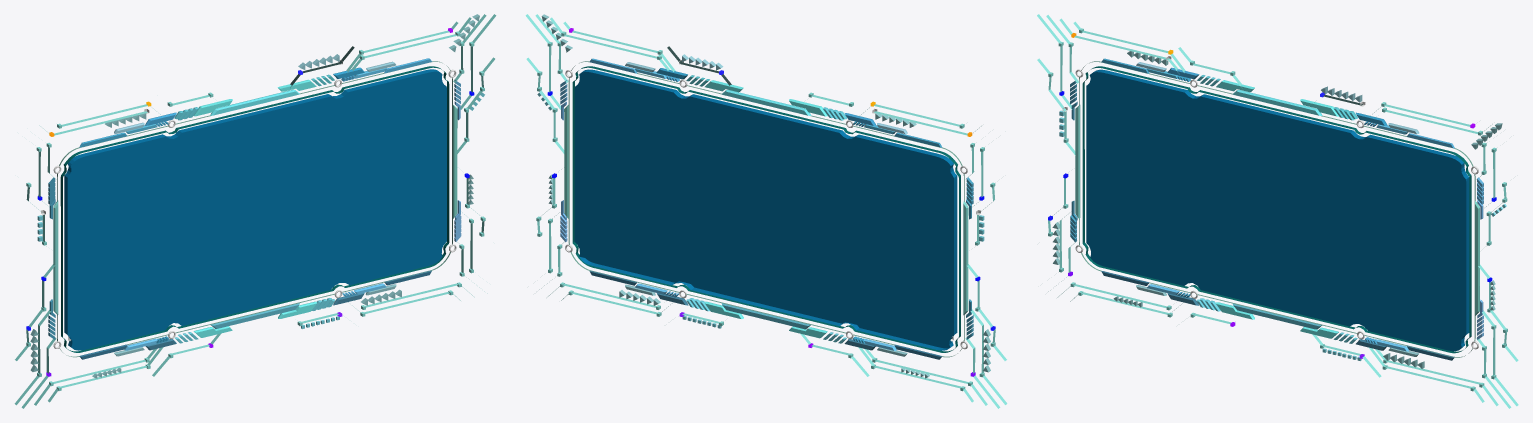
3 renders of one model, left to right at view 1: azimuth 30°, elevation 25°; view 2: azimuth 150°, elevation 25°; view 3: azimuth 330°, elevation 25°, orthographic.
Parts seen in each view (by area): view 1: Plane.018, Plane.051, Plane.017, Plane.035, Plane.036, Plane.043, Plane.014, Plane.038, Plane.025, Plane.048, Plane.030; view 2: Plane.018, Plane.051, Plane.017, Plane.036, Plane.035, Plane.043, Plane.014, Plane.025, Plane.038, Plane.030, Plane.048; view 3: Plane.018, Plane.051, Plane.017, Plane.035, Plane.036, Plane.043, Plane.014, Plane.038, Plane.025, Plane.030, Plane.048.
Part boxes in pixels (left/top/right/bottom): Plane.018: left=64, top=69, right=446, bottom=350; Plane.051: left=14, top=14, right=496, bottom=408; Plane.017: left=60, top=66, right=449, bottom=352; Plane.035: left=30, top=14, right=479, bottom=378; Plane.036: left=57, top=61, right=452, bottom=357; Plane.043: left=53, top=200, right=58, bottom=314; Plane.014: left=210, top=89, right=299, bottom=115; Plane.038: left=453, top=105, right=457, bottom=218; Plane.025: left=211, top=303, right=299, bottom=328; Plane.048: left=48, top=177, right=55, bottom=339; Plane.030: left=79, top=270, right=431, bottom=359; Plane.018: left=574, top=69, right=957, bottom=350; Plane.051: left=525, top=14, right=1007, bottom=408; Plane.017: left=572, top=66, right=960, bottom=352; Plane.036: left=568, top=61, right=964, bottom=357; Plane.035: left=541, top=14, right=990, bottom=378; Plane.043: left=963, top=201, right=968, bottom=315; Plane.014: left=722, top=90, right=811, bottom=115; Plane.025: left=721, top=303, right=810, bottom=329; Plane.038: left=564, top=105, right=568, bottom=218; Plane.030: left=589, top=271, right=942, bottom=359; Plane.048: left=966, top=177, right=973, bottom=339; Plane.018: left=1086, top=69, right=1469, bottom=351; Plane.051: left=1037, top=14, right=1518, bottom=408; Plane.017: left=1082, top=66, right=1471, bottom=353; Plane.035: left=1052, top=51, right=1502, bottom=368; Plane.036: left=1079, top=61, right=1475, bottom=357; Plane.043: left=1075, top=105, right=1080, bottom=219; Plane.014: left=1232, top=90, right=1322, bottom=115; Plane.038: left=1475, top=201, right=1479, bottom=315; Plane.025: left=1233, top=303, right=1321, bottom=329; Plane.030: left=1101, top=271, right=1454, bottom=360; Plane.048: left=1070, top=81, right=1077, bottom=242.
Bounding box in the file's own units: 10.92 × 6.13 × 0.14.
